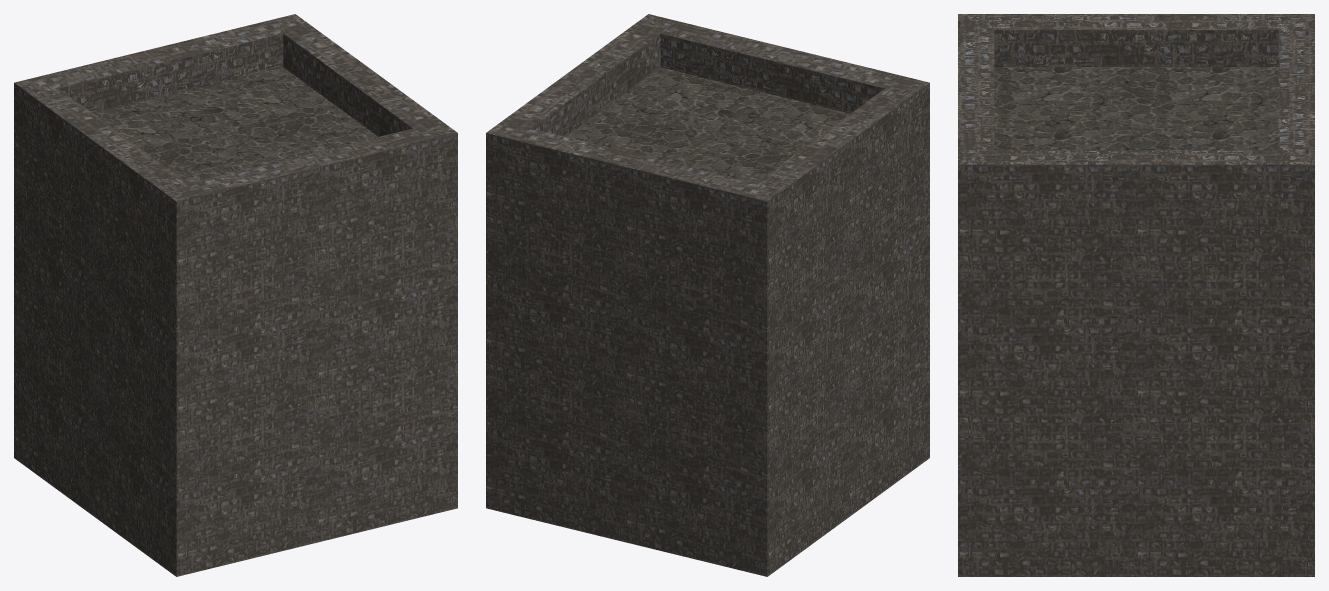
Rendered from SquareTowerBottom.fbx.
The picture shows the model from 3 angles, left to right: view 1: azimuth 30°, elevation 25°; view 2: azimuth 150°, elevation 25°; view 3: azimuth 270°, elevation 25°; orthographic projection. The views are drawn at different scales.
Visible parts, largest first — view 1: Square Tower Bottom; view 2: Square Tower Bottom; view 3: Square Tower Bottom.
Part boxes in pixels (x1=…): Square Tower Bottom: x1=14, y1=14, x2=457, y2=576; Square Tower Bottom: x1=486, y1=14, x2=929, y2=576; Square Tower Bottom: x1=958, y1=14, x2=1314, y2=576.
Bounding box in the file's own units: 600 × 765 × 600.
